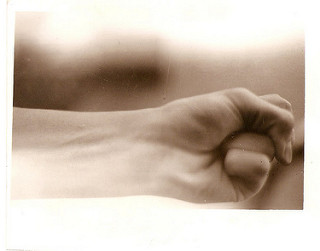fist: (172, 83, 288, 204)
